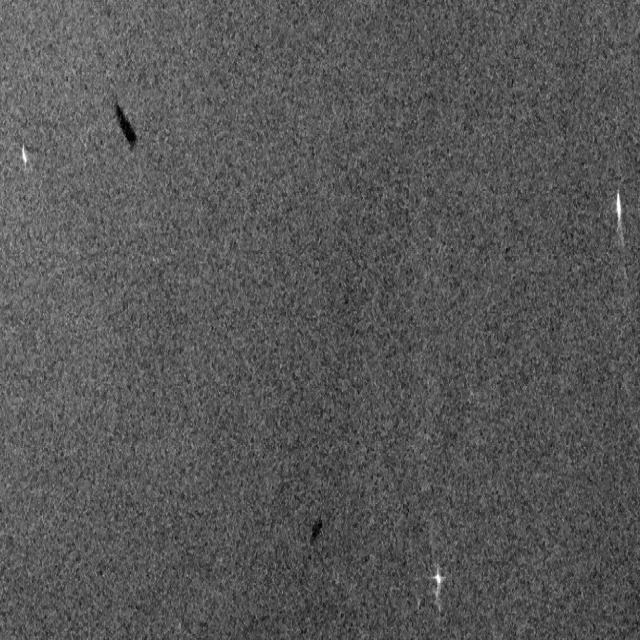oil-spill: (109, 97, 140, 159), (302, 511, 327, 555)
ship: (609, 181, 631, 248), (425, 558, 447, 606), (17, 138, 32, 174)
